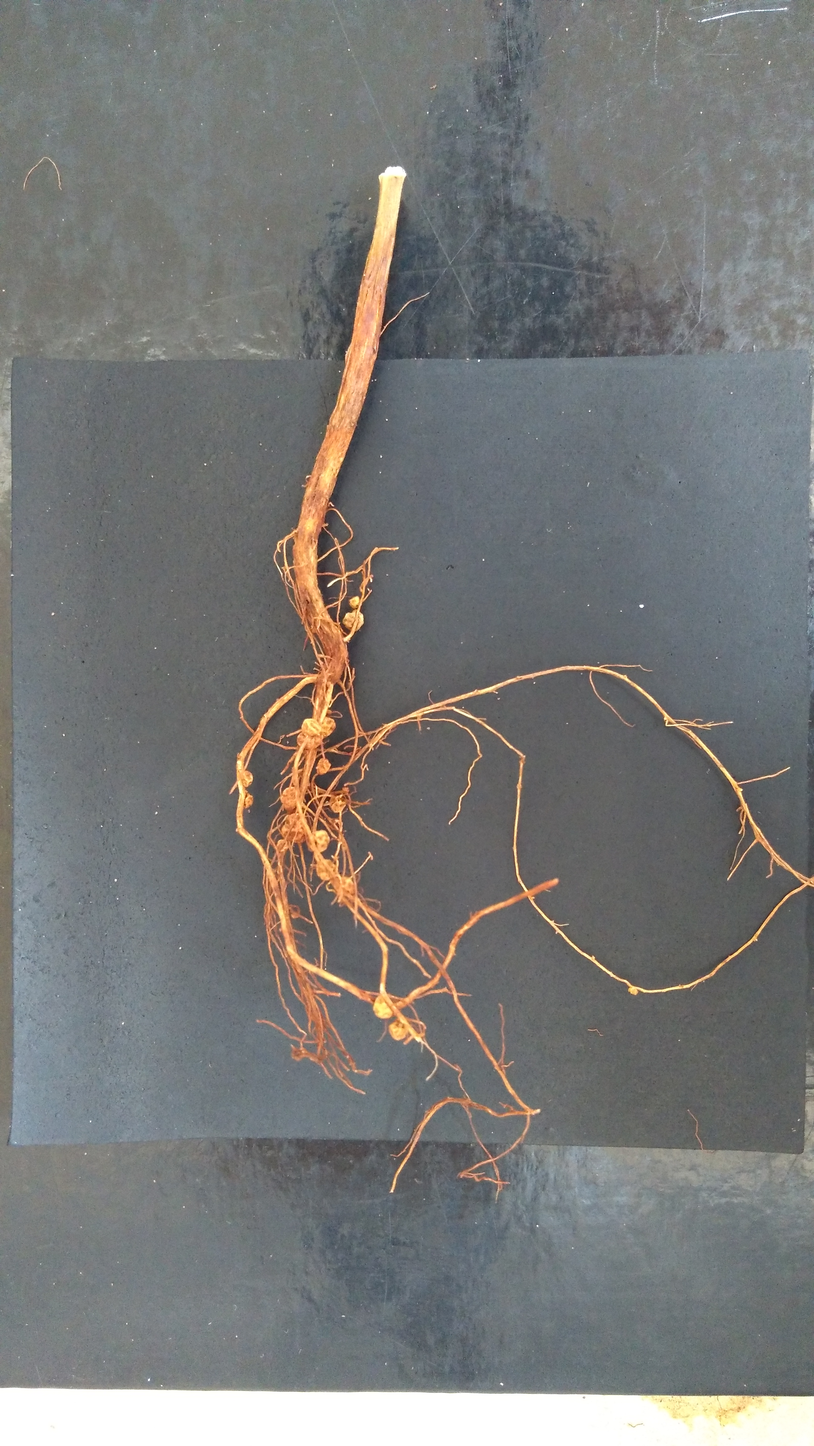nodule: (280, 811, 309, 845), (279, 784, 300, 814), (315, 857, 339, 883), (311, 828, 333, 856), (341, 608, 365, 633), (372, 994, 395, 1020), (296, 731, 324, 751), (300, 716, 322, 737), (386, 1019, 407, 1041), (328, 791, 347, 814), (320, 715, 337, 739), (338, 874, 356, 896), (316, 756, 332, 777), (240, 770, 256, 789), (241, 790, 255, 810), (275, 839, 291, 854), (347, 594, 362, 609), (627, 986, 639, 997)
